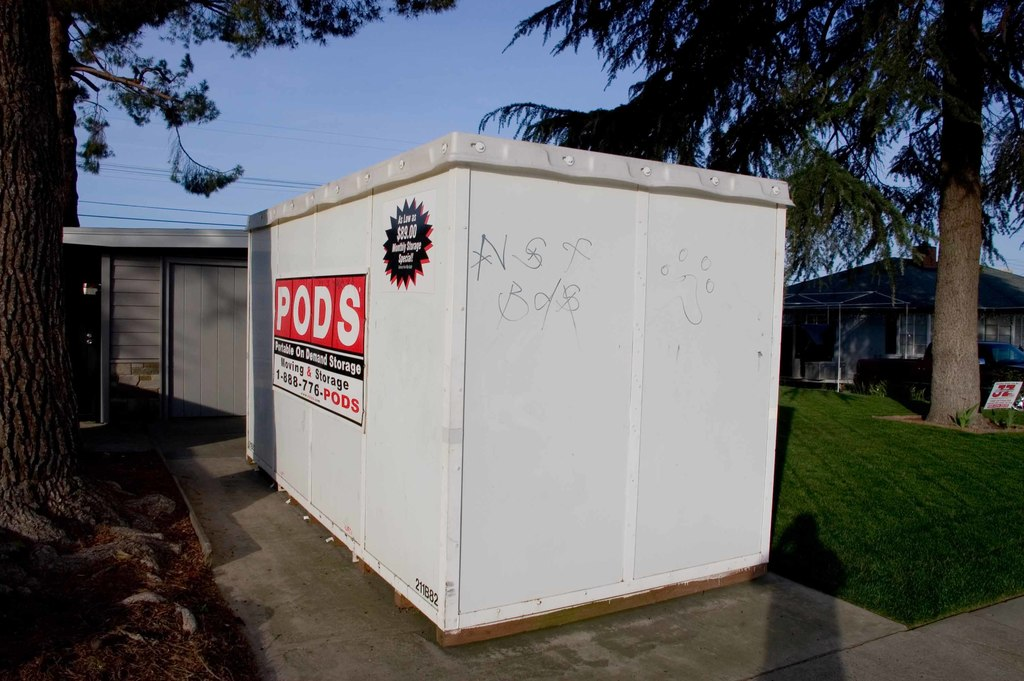Tree: (0, 0, 448, 575), (479, 0, 1023, 419)
